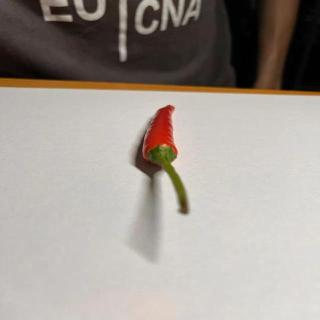Cabai Merah: (142, 105, 190, 216)
